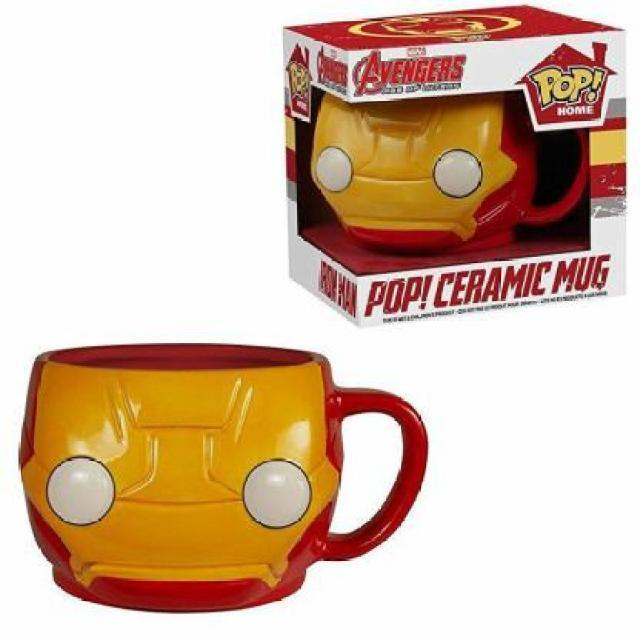taza: (18, 338, 428, 616)
